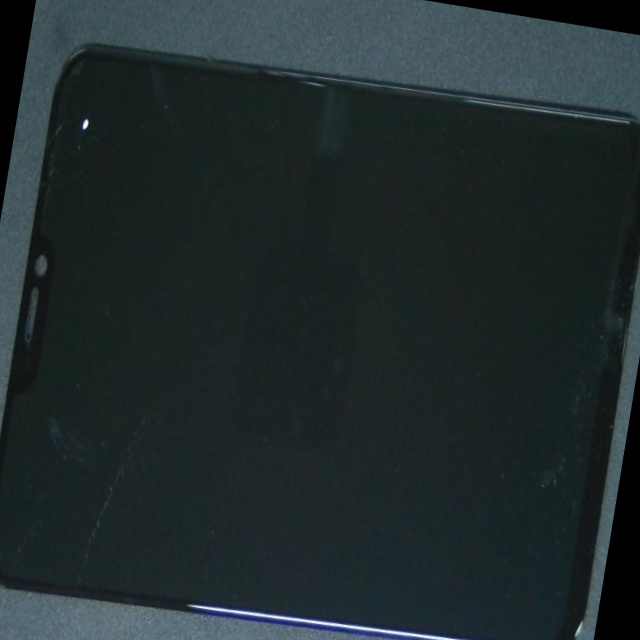stain: (49, 0, 130, 190)
